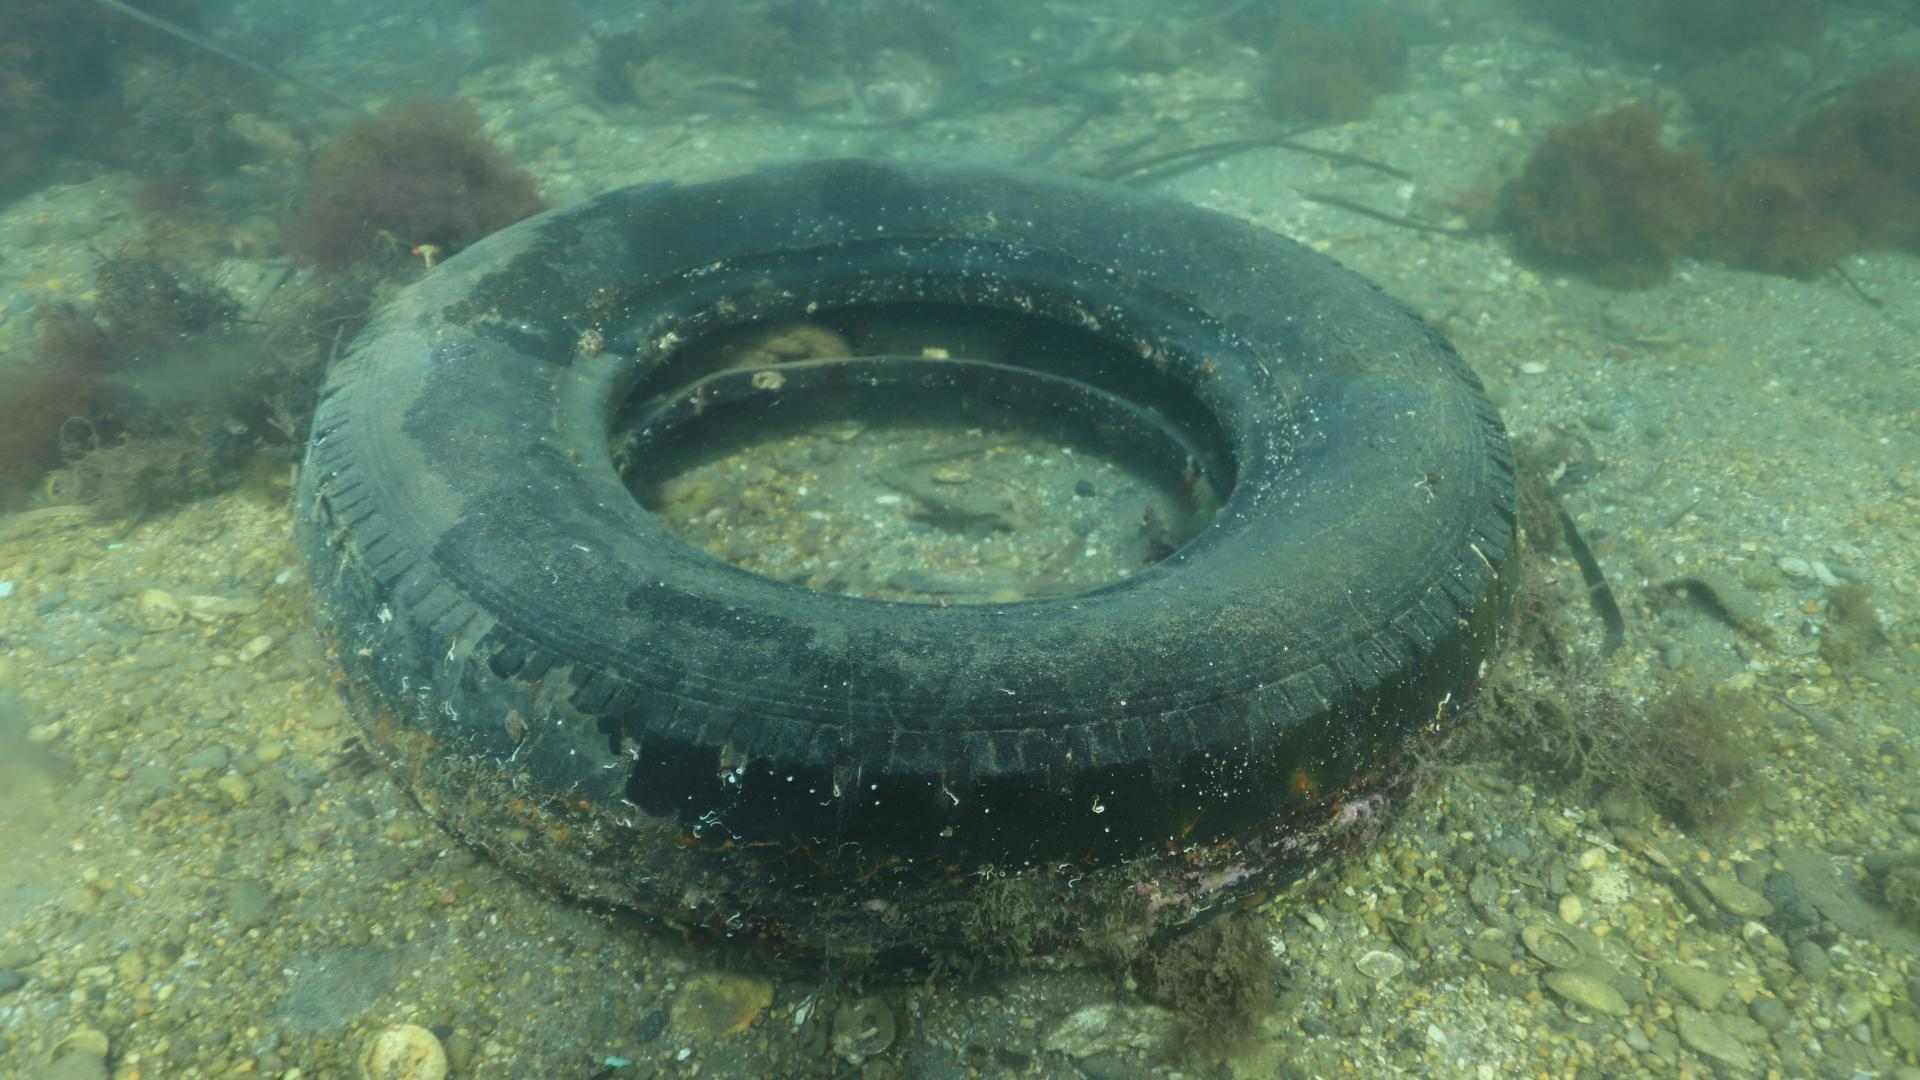tire: (302, 154, 1518, 984)
